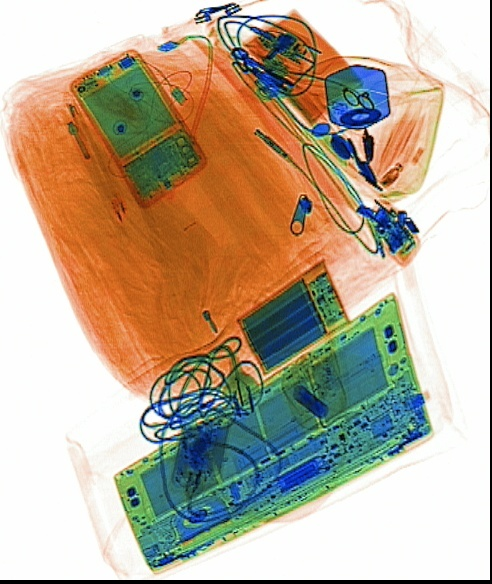powerbank: (235, 255, 352, 375)
